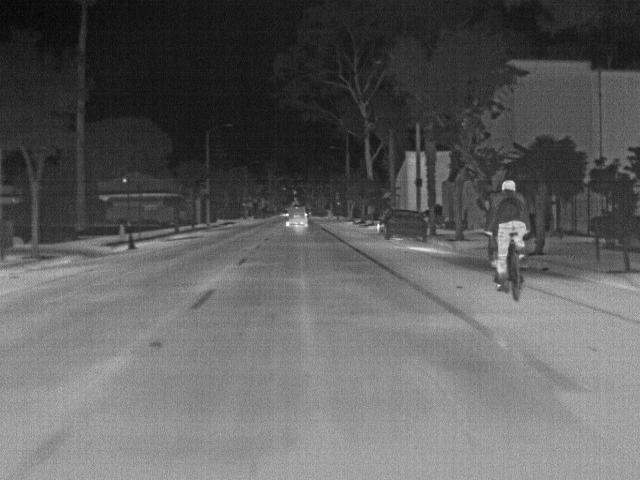car: (381, 208, 426, 243), (286, 203, 310, 227)
person: (490, 177, 528, 291)
